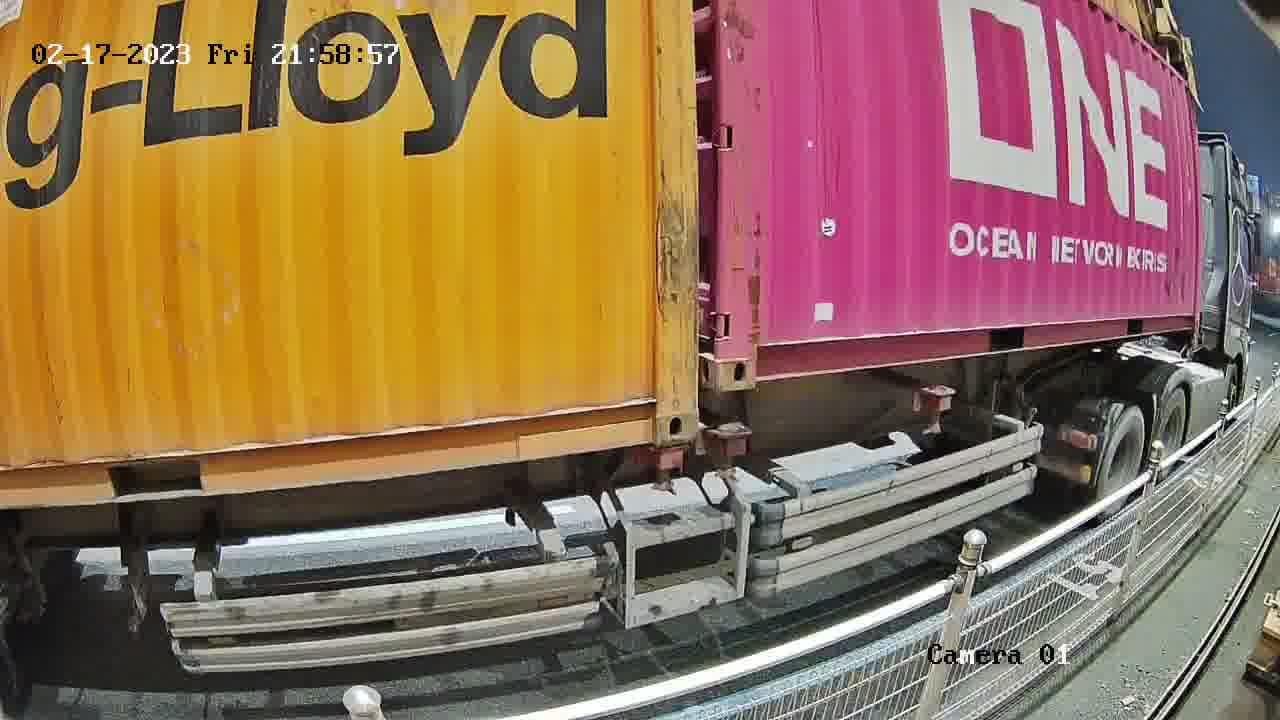Cone: (708, 421, 748, 483), (644, 445, 688, 495)
Hole_L: (719, 321, 791, 392)
Hole_R: (619, 380, 698, 446)
Tire: (1100, 408, 1146, 511), (1152, 390, 1188, 478)
